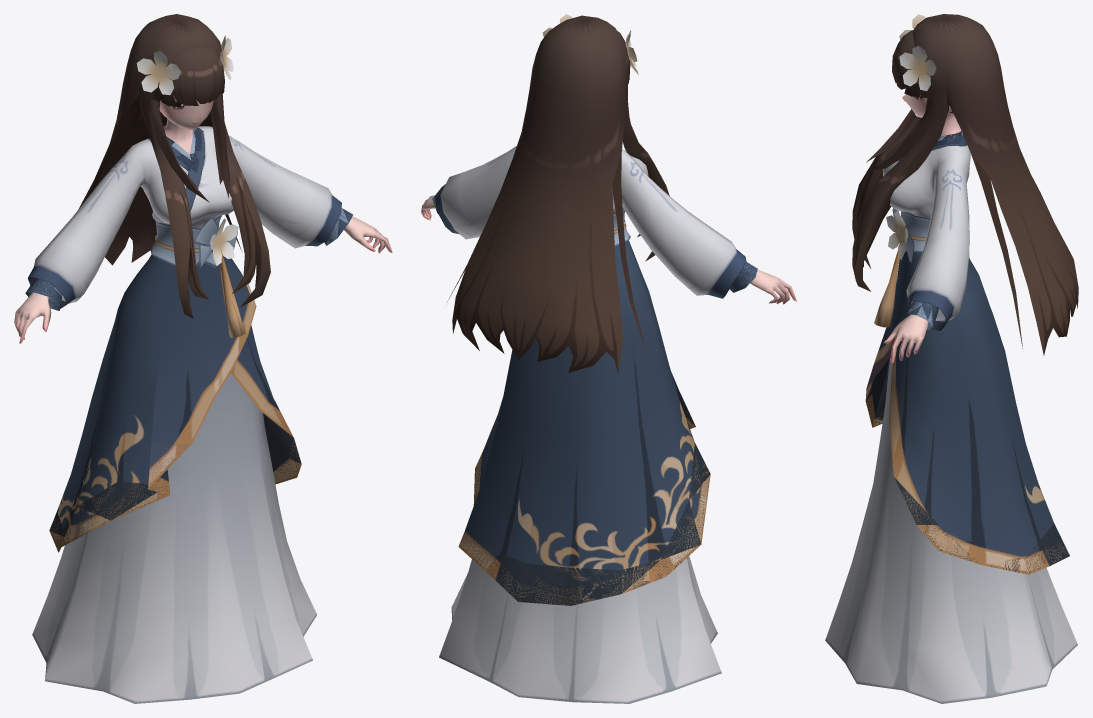
Rendered from s_108_xiu_yi_mom_view.fbx.
3 views of the same model, side by side, from view 1: azimuth 30°, elevation 25°; view 2: azimuth 150°, elevation 25°; view 3: azimuth 270°, elevation 25° (orthographic).
Parts seen in each view (by area): view 1: show_039_xiu_yi_mom; view 2: show_039_xiu_yi_mom; view 3: show_039_xiu_yi_mom.
Boxes of the visible parts, left/top/right/bottom form: show_039_xiu_yi_mom: left=14, top=14, right=392, bottom=703; show_039_xiu_yi_mom: left=421, top=14, right=796, bottom=703; show_039_xiu_yi_mom: left=825, top=14, right=1078, bottom=703.
Bounding box in the file's own units: 126 × 206 × 75.1.
